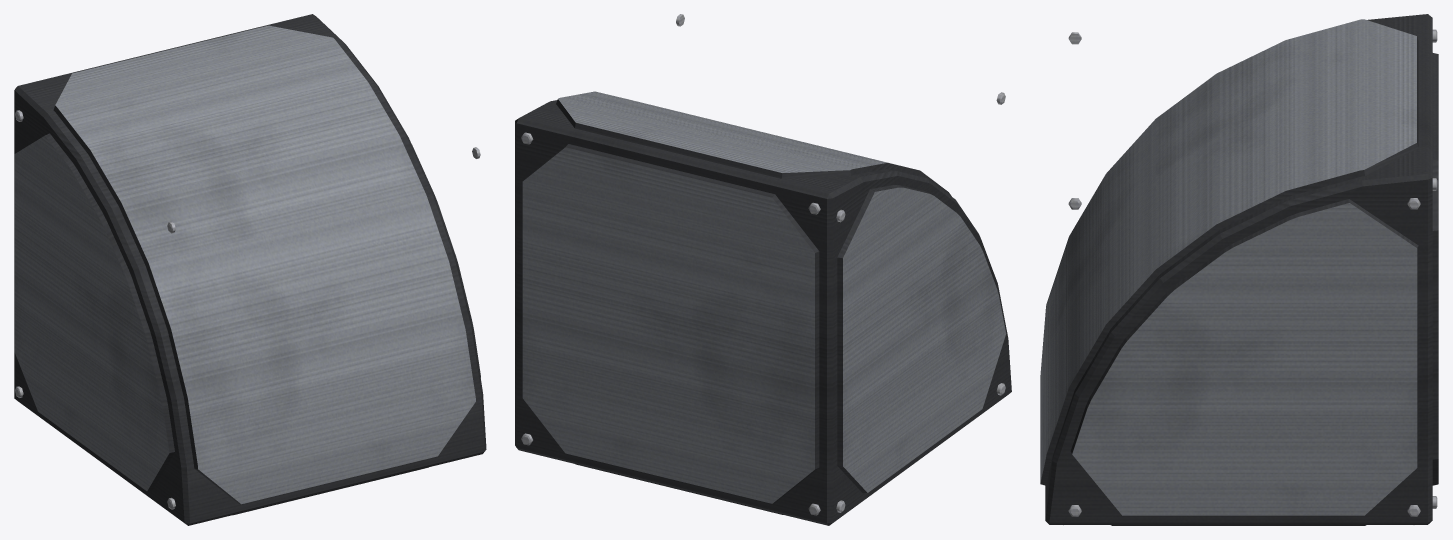
The model's file is R4B_RoundEdge.glb.
3 renders of one model, left to right at view 1: azimuth 30°, elevation 25°; view 2: azimuth 150°, elevation 25°; view 3: azimuth 270°, elevation 25°, orthographic. The views are drawn at different scales.
Parts seen in each view (by area): view 1: R4B_RoundEdge; view 2: R4B_RoundEdge; view 3: R4B_RoundEdge.
Boxes of the visible parts, box(x1,y1,x2,y2) form: R4B_RoundEdge: box(14, 14, 486, 525); R4B_RoundEdge: box(515, 14, 1011, 525); R4B_RoundEdge: box(1040, 14, 1438, 525).
Bounding box in the file's own units: 0.52 × 0.5178 × 0.5178.
3 materials, 3 textured.
